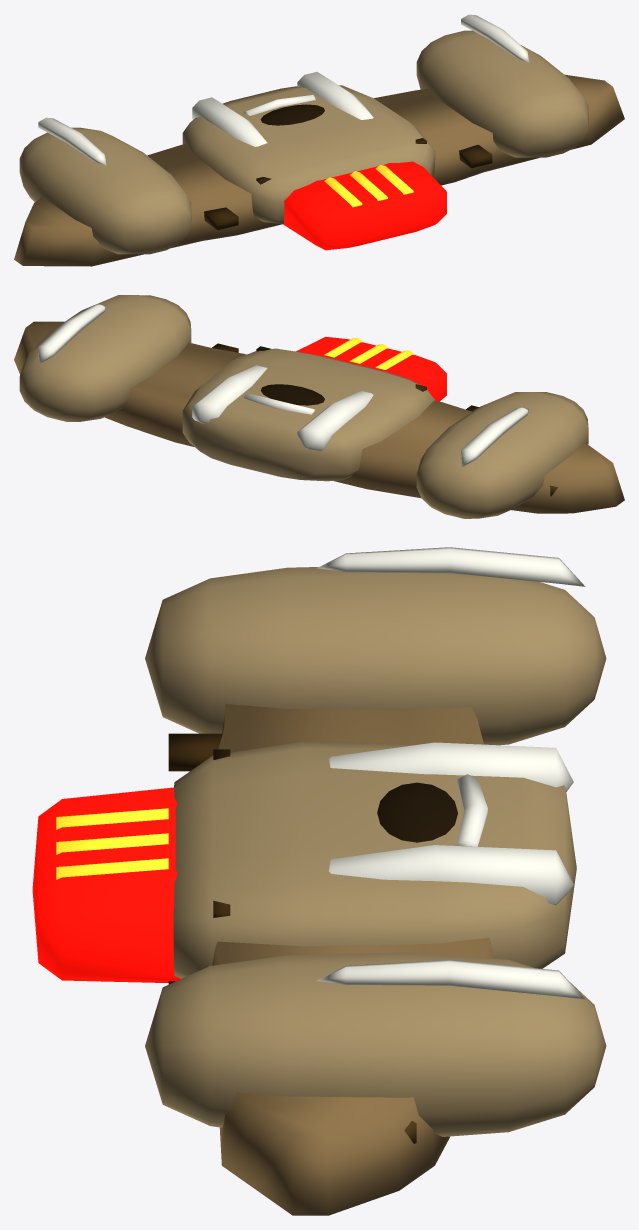
File: ship-dragonwing.glb
The picture shows the model from 3 angles, top to bottom: view 1: azimuth 30°, elevation 25°; view 2: azimuth 150°, elevation 25°; view 3: azimuth 270°, elevation 25°; orthographic projection. The views are drawn at different scales.
Parts seen in each view (by area): view 1: ship-dragonwing; view 2: ship-dragonwing; view 3: ship-dragonwing.
Part boxes in pixels (box(x1,y1,x2,y2)): ship-dragonwing: box(14, 14, 624, 266); ship-dragonwing: box(14, 295, 624, 518); ship-dragonwing: box(32, 547, 606, 1215).
Bounding box in the file's own units: 3.92 × 0.5477 × 1.62.
